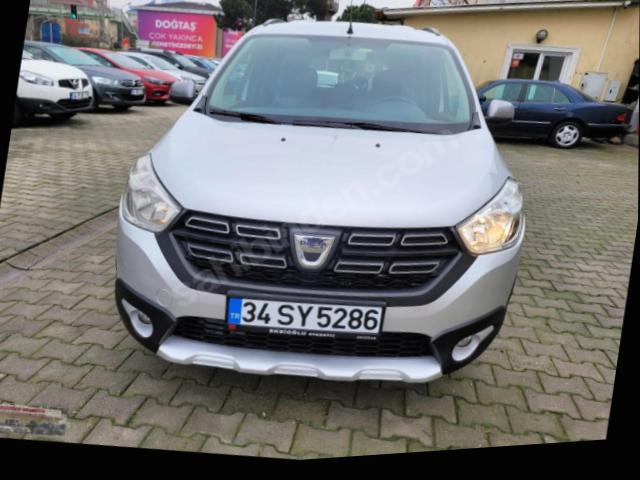plaka: (226, 297, 384, 336)
